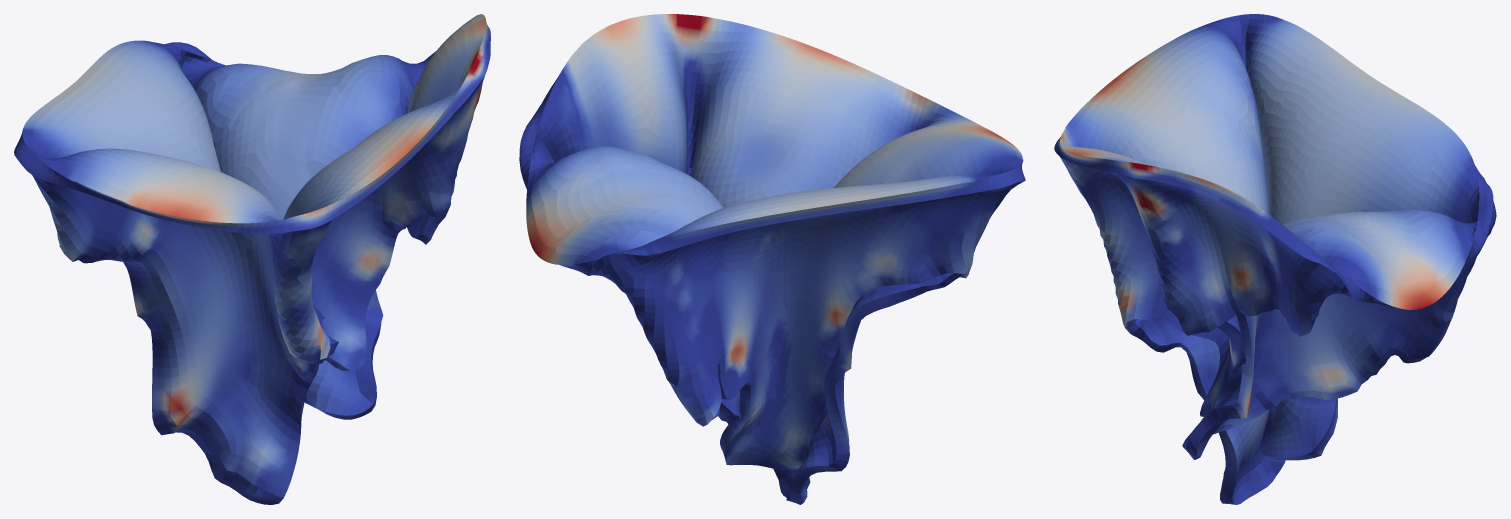
The picture shows the model from 3 angles, left to right: view 1: azimuth 30°, elevation 25°; view 2: azimuth 150°, elevation 25°; view 3: azimuth 270°, elevation 25°; orthographic projection. The views are drawn at different scales.
Parts seen in each view (by area): view 1: OCS14_maxS_12; view 2: OCS14_maxS_12; view 3: OCS14_maxS_12.
Part boxes in pixels (x1,y1,x2,y2): OCS14_maxS_12: [14, 14, 490, 504]; OCS14_maxS_12: [519, 14, 1025, 504]; OCS14_maxS_12: [1054, 14, 1496, 504].
Size of the model in its own units: 1.42 by 1.25 by 1.2.
